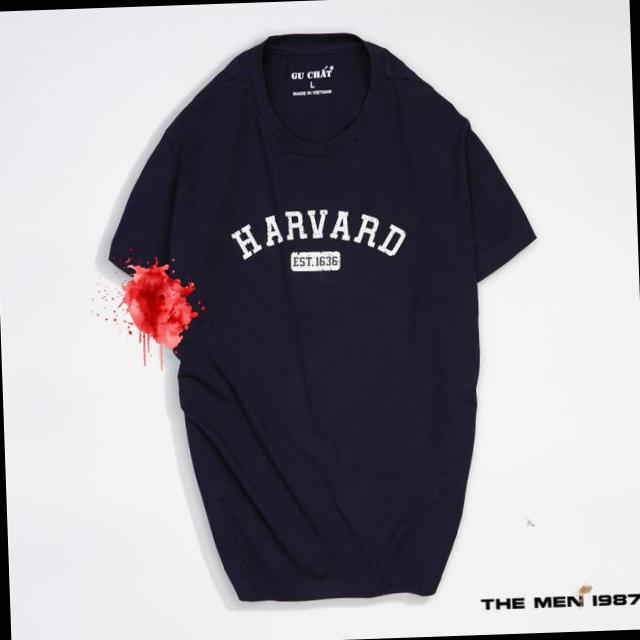stain: (117, 251, 206, 366)
